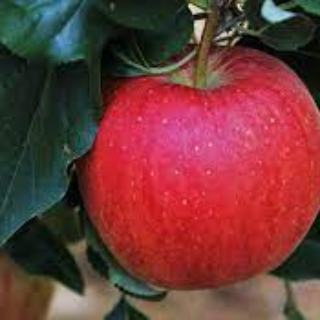tao: (81, 40, 314, 297)
